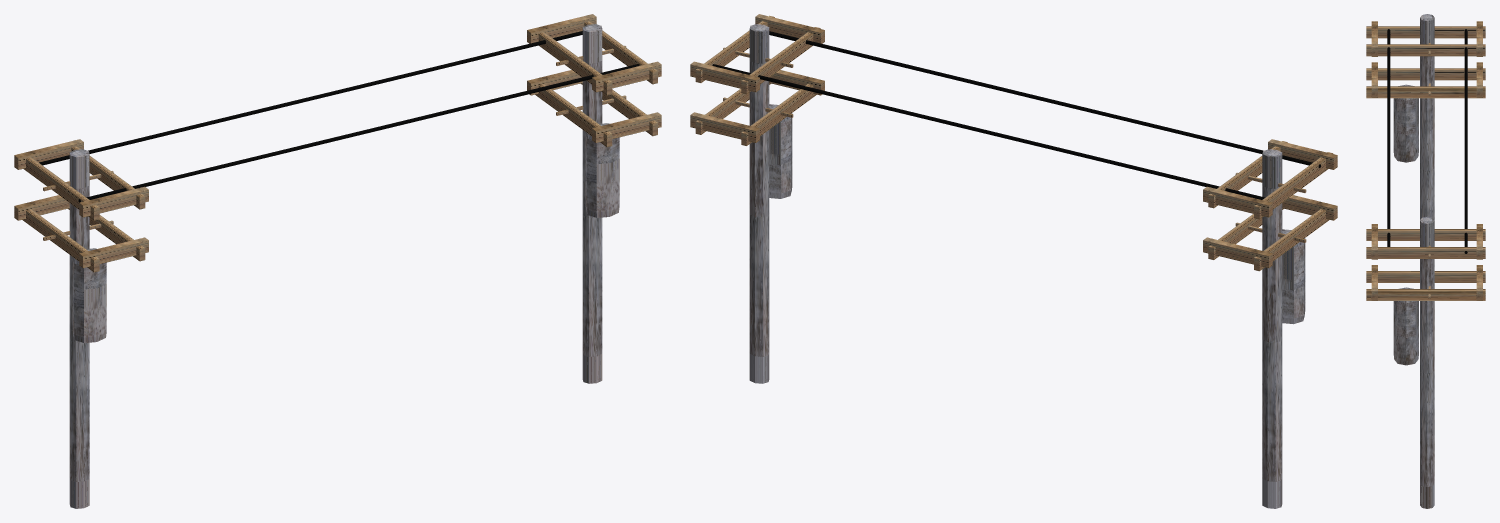
Rendered from post.fbx.
3 views of the same model, side by side, from view 1: azimuth 30°, elevation 25°; view 2: azimuth 150°, elevation 25°; view 3: azimuth 270°, elevation 25° (orthographic). The views are drawn at different scales.
Parts seen in each view (by area): view 1: Cube, Cube.002, Cube.001, Cube.003, Cylinder.001; view 2: Cube, Cube.002, Cube.001, Cube.003, Cylinder.001; view 3: Cube.001, Cube.003, Cube.002, Cube, Cylinder.001.
Part boxes in pixels (bbox=[...]): Cube: bbox=[69, 149, 106, 508]; Cube.002: bbox=[582, 24, 619, 383]; Cube.001: bbox=[14, 139, 148, 272]; Cube.003: bbox=[527, 14, 661, 147]; Cylinder.001: bbox=[39, 31, 639, 202]; Cube: bbox=[1262, 149, 1305, 508]; Cube.002: bbox=[749, 24, 792, 383]; Cube.001: bbox=[1203, 139, 1337, 271]; Cube.003: bbox=[690, 14, 824, 145]; Cylinder.001: bbox=[712, 31, 1320, 199]; Cube.001: bbox=[1366, 21, 1485, 98]; Cube.003: bbox=[1366, 224, 1485, 300]; Cube.002: bbox=[1393, 216, 1434, 508]; Cube: bbox=[1393, 14, 1434, 219]; Cylinder.001: bbox=[1387, 29, 1467, 253].
Bounding box in the file's own units: 3955 × 2283 × 869.
